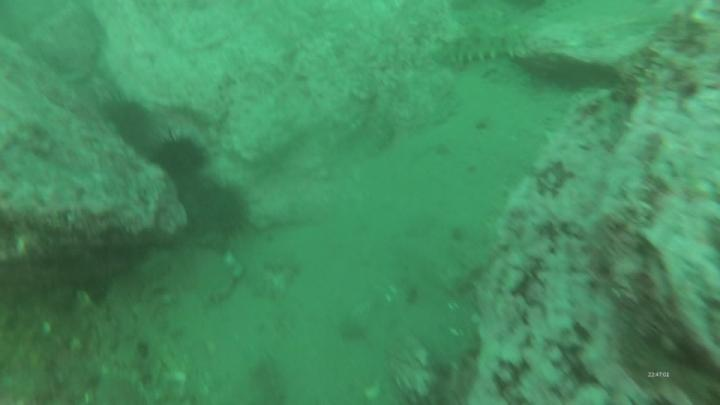echinus: (189, 180, 253, 242), (155, 130, 209, 180), (99, 91, 154, 140)
holothurian: (431, 32, 536, 73)
